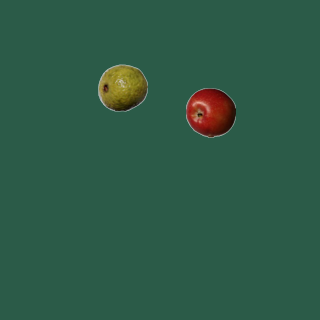Apple Braeburn: (185, 87, 235, 137)
Guava: (97, 62, 147, 112)
